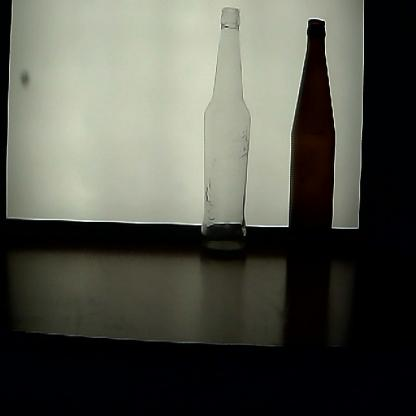Can: (287, 12, 340, 271), (202, 6, 255, 264)
